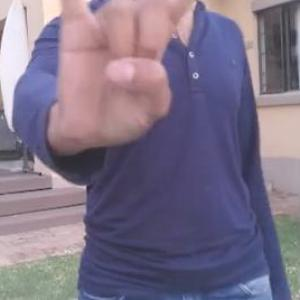takeoff-hand: (52, 0, 245, 158)
